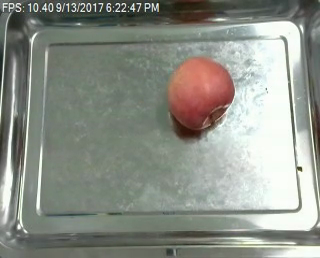Apple: (163, 56, 238, 132)
